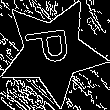P_E: (25, 30, 80, 74)
